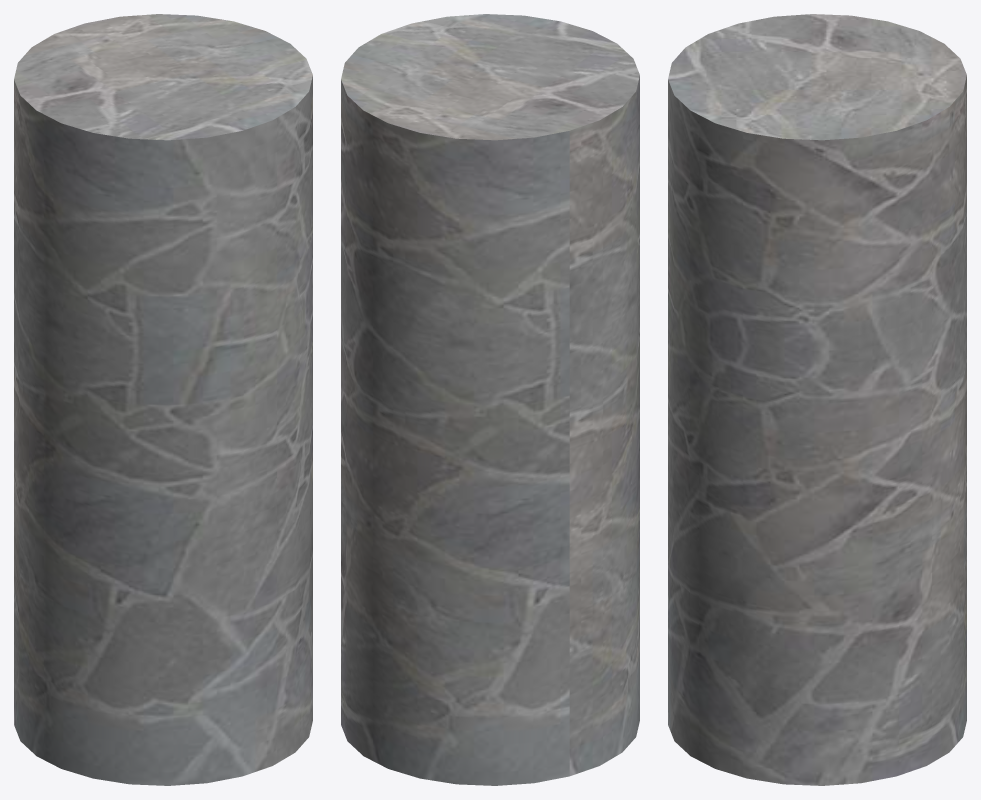
The picture shows the model from 3 angles, left to right: view 1: azimuth 30°, elevation 25°; view 2: azimuth 150°, elevation 25°; view 3: azimuth 270°, elevation 25°; orthographic projection.
Parts seen in each view (by area): view 1: SketchUp; view 2: SketchUp; view 3: SketchUp.
Boxes of the visible parts, x1=… form: SketchUp: x1=14, y1=14, x2=312, y2=785; SketchUp: x1=341, y1=14, x2=639, y2=785; SketchUp: x1=668, y1=14, x2=966, y2=785.
Size of the model in its own units: 29.9 by 29.9 by 71.26.
